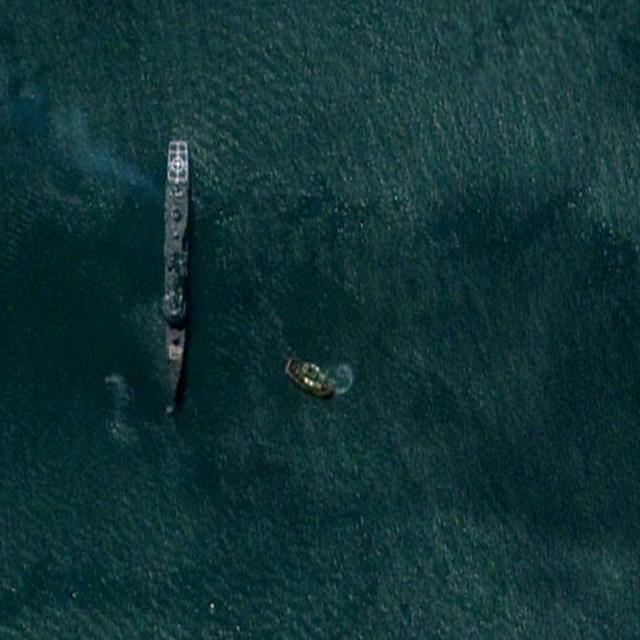Cruiser: (159, 138, 191, 405)
Hovercraft: (278, 349, 339, 403)
